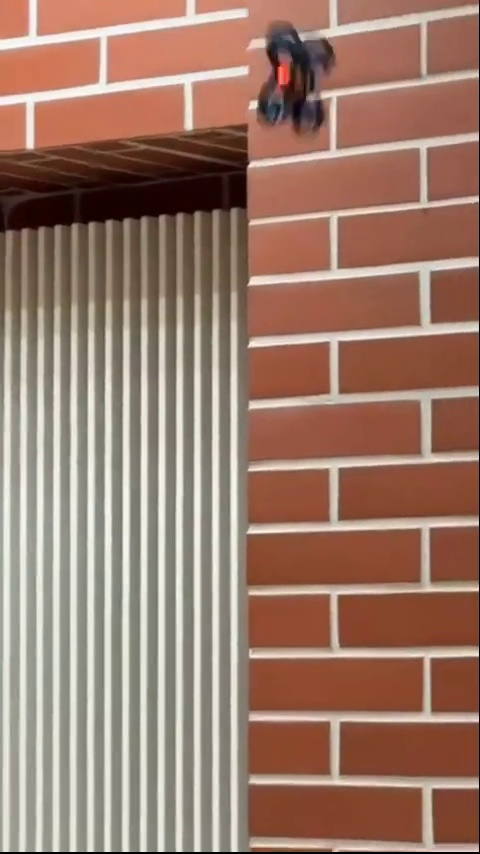drone: (251, 15, 338, 140)
